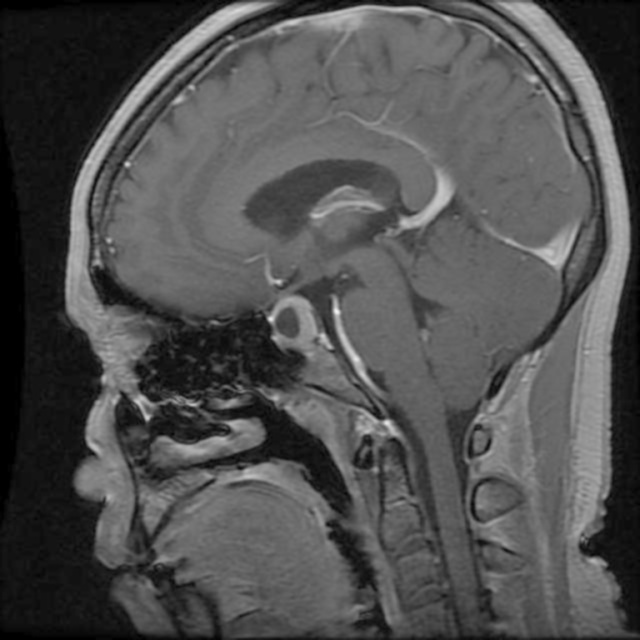no tumor: (274, 284, 325, 361)
